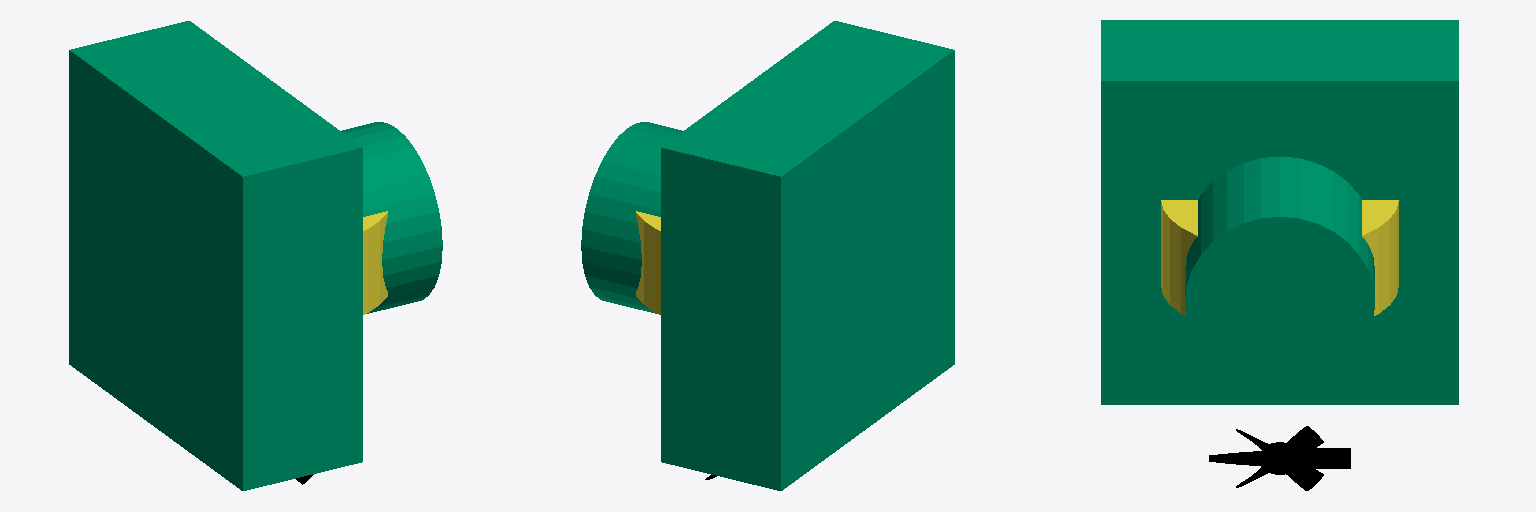
robot.urdf — stinger_tug:
<?xml version="1.0" ?>

<robot name="stinger_tug">
    <link name="base_link" />
        
    <link name="hull_link">
      <inertial>
        <origin xyz="-0.05 0 -0.15" rpy="0 0 0"/>
        <mass value="30"/>
        <inertia ixx="2.42369" ixy="0" ixz="0" iyy="3.9235025" iyz="0" izz="5.6403125"/>
      </inertial>
      <collision>
          <origin xyz="0 0 0.05" rpy="0 0 0"/>
          <geometry>
                <box size="0.381 0.204 0.135" />
          </geometry>
      </collision>
      <visual name="hull_visual">
        <geometry>
          <mesh filename="package://stinger_description/models/stinger_base/meshes/stinger_hull.dae"/>
        </geometry>
      </visual>
      <visual name="motor_stbd_visual">
        <geometry>
          <mesh filename="package://stinger_description/models/stinger_base/meshes/stinger_prop.dae"/>
        </geometry>
      </visual>
      <visual name="motor_port_visual">
        <geometry>
          <mesh filename="package://stinger_description/models/stinger_base/meshes/stinger_prop.dae"/>
        </geometry>
      </visual>
    </link>

    <joint name="hull_joint" type="fixed">
        <origin xyz="0 0 0" rpy="0 0 0"/>
        <parent link="base_link" />
        <child link="hull_link" />
    </joint>

    <link name="camera_link">
        <inertial>
            <origin xyz="0.0 0 0" rpy="0 0 0"/>
            <mass value="0.1"/>
            <inertia ixx="0.000354" ixy="0" ixz="0" iyy="0.000292" iyz="0" izz="0.000292"/>
        </inertial>
        <visual>
            <origin xyz="-0.03 0 0" rpy="0 0 0"/>
            <geometry>
                <box size="0.06 0.15 0.15" />
            </geometry>
        </visual>
        <visual>
            <origin xyz="0.03 0 0" rpy="0 1.57 0"/>
            <geometry>
                <cylinder length="0.06" radius="0.04" />
            </geometry>
        </visual>
        <collision>
            <origin xyz="0.0 0 0" rpy="0 0 0"/>
            <geometry>
                <box size="0.12 0.15 0.15" />
            </geometry>
        </collision>
    </link>

    <joint name="camera_joint" type="fixed">
        <origin xyz="0 0 0.1" rpy="0 0 0"/>
        <parent link="hull_link"/>
        <child link="camera_link"/>        
    </joint>

    <link name="laser">
        <inertial>
            <origin xyz="0 0 0" rpy="0 0 0"/>
            <mass value="0.1"/>
            <inertia ixx="0.000058" ixy="0" ixz="0" iyy="0.000058" iyz="0" izz="0.000025"/>
        </inertial>
        <visual>
            <geometry>
                <cylinder radius="0.05" length="0.04"/>
            </geometry>
        </visual>
        <collision>
            <geometry>
                <cylinder radius="0.05" length="0.04"/>
            </geometry>
        </collision>
    </link>

    <joint name="lidar_joint" type="fixed">
        <origin xyz="0 0 0.1" rpy="0 0 0"/>
        <parent link="hull_link"/>
        <child link="laser"/>        
    </joint>

    <link name="imu_link">
      <inertial>
        <origin xyz="0 0 0" rpy="0 0 0"/>
        <mass value="0.1"/>
        <inertia ixx="0.0001" ixy="0" ixz="0" iyy="0.0001" iyz="0" izz="0.0001" />
      </inertial>
    </link>

    <joint name="imu_joint" type="fixed">
      <origin xyz="0 0 0" rpy="0 0 0"/>
      <parent link="hull_link"/>
      <child link="imu_link"/>
    </joint>

    <link name="gps_frame">
      <inertial>
        <origin xyz="0 0 0" rpy="0 0 0"/>
        <mass value="0.1"/>
        <inertia ixx="0.0001" ixy="0" ixz="0" iyy="0.0001" iyz="0" izz="0.0001" />
      </inertial>
    </link>

    <joint name="gps_joint" type="fixed">
      <origin xyz="0 0 0"/>
      <parent link="hull_link"/>
      <child link="gps_frame"/>
    </joint>

</robot>

--- What the picture shows (computed from the rendered views, not written in the file) ---
Views: 3 orthographic renders of the robot side by side, from view 1: azimuth 30°, elevation 25°; view 2: azimuth 150°, elevation 25°; view 3: azimuth 270°, elevation 25°.
Robot: stinger_tug — 6 links, 5 joints (5 fixed); root link base_link; default pose: all joints at 0.
Links seen in each view (by area): view 1: camera_link, laser; view 2: camera_link, laser; view 3: camera_link, laser, hull_link.
Link boxes in pixels (x1,y1,x2,y2): camera_link: (69,21,442,490); laser: (363,211,387,314); camera_link: (581,21,954,490); laser: (636,211,660,314); camera_link: (1101,20,1458,404); laser: (1161,200,1398,315); hull_link: (1209,426,1350,490).
Bounding box of the posed robot: 0.12 × 0.15 × 0.1802 m (x, y, z).
Meshes: 2 distinct files referenced, 2 mesh visuals loaded (1 Collada DAE); not drawn: 1 (reference not matched to a file when rendering).